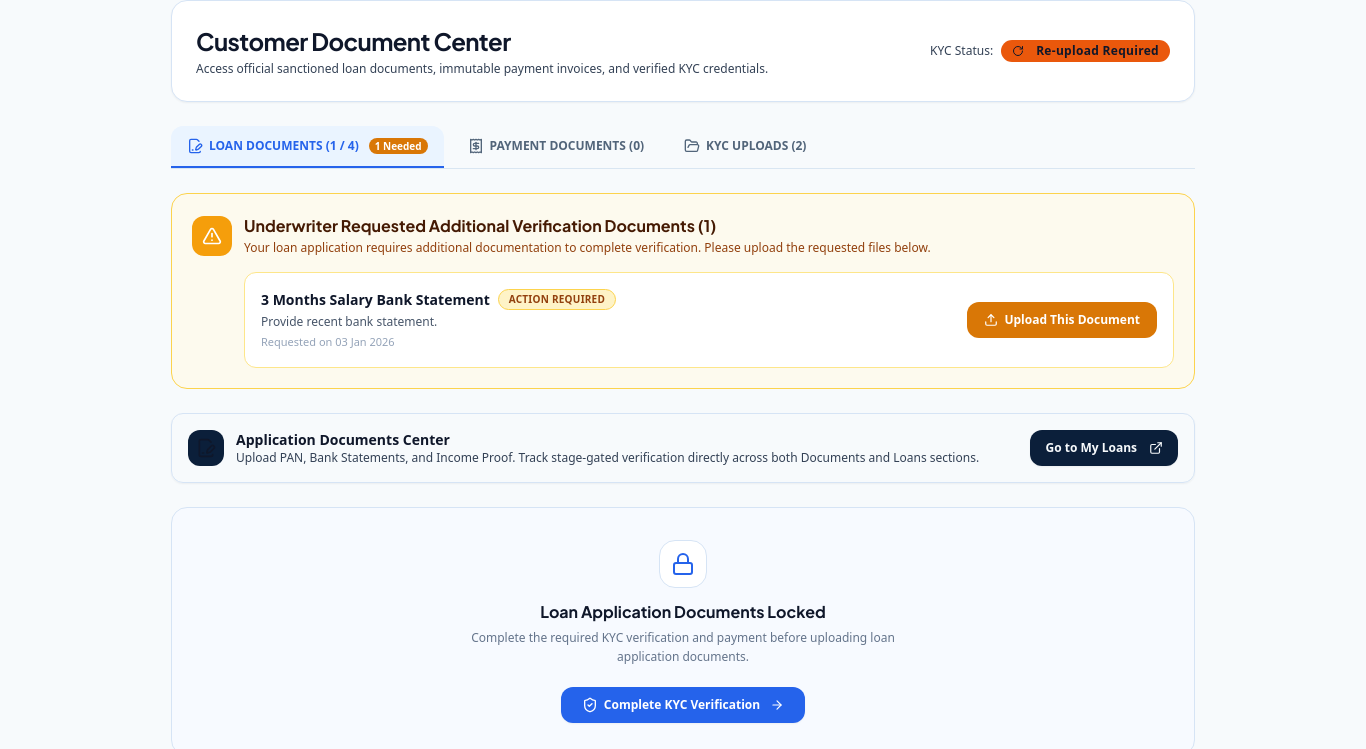
Customer Profile & KYC Frontend Flow › CustomerDocuments Page › renders overall KYC status banner and document cards with reviewer feedback
Expected: the text "Re-upload Required" is shown, [1036,43,1159,59]
# Switch to KYC tab
Click the button "KYC UPLOADS (2)": (745, 147) [668,126,822,168]
(page scrolled)
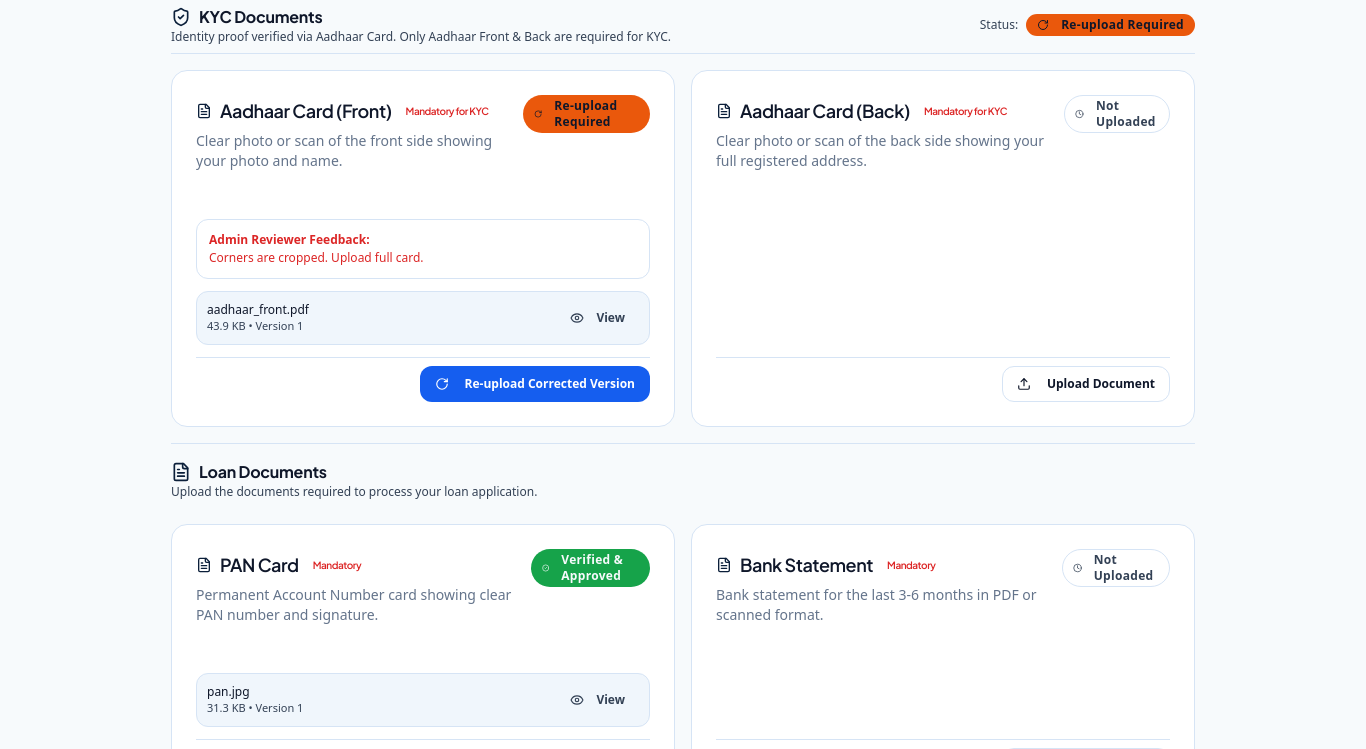
Expected: the text "Corners are cropped. Upload full card." is shown, [209,249,424,266]
Expected: the button "Re-upload Corrected Version" is shown, [420,366,650,402]
